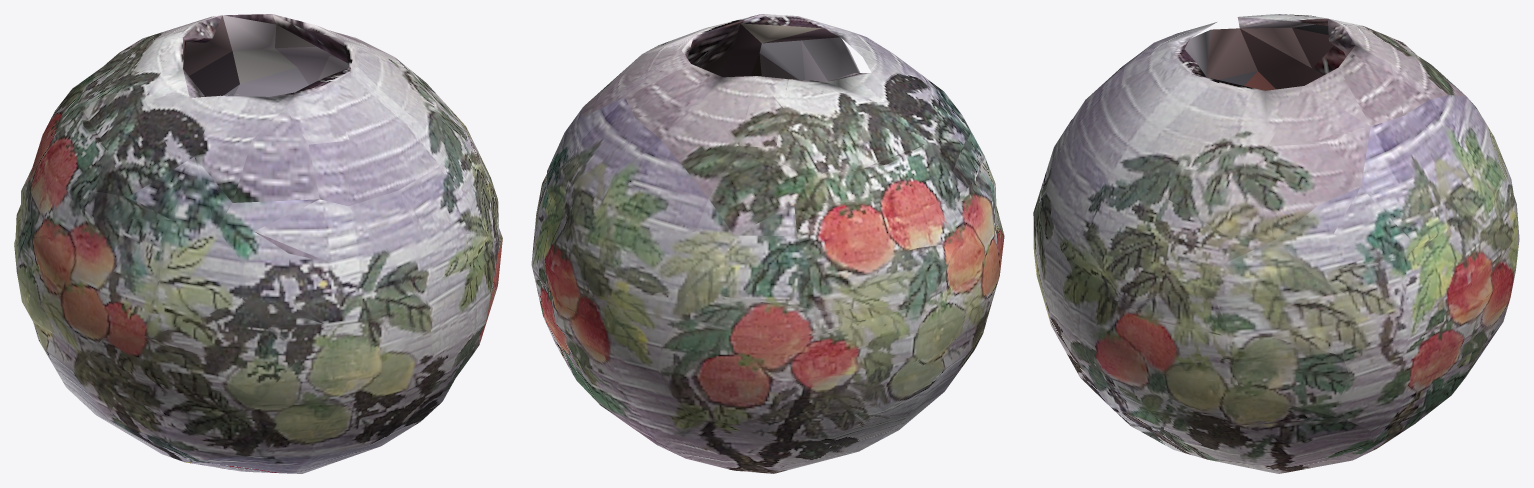
The model's file is AT5 Geoffrey Lim Persimmons.glb.
3 views of the same model, side by side, from view 1: azimuth 30°, elevation 25°; view 2: azimuth 150°, elevation 25°; view 3: azimuth 270°, elevation 25° (orthographic). The views are drawn at different scales.
Bounding box in the file's own units: 991 × 928 × 1000.
1 material, 1 textured.
